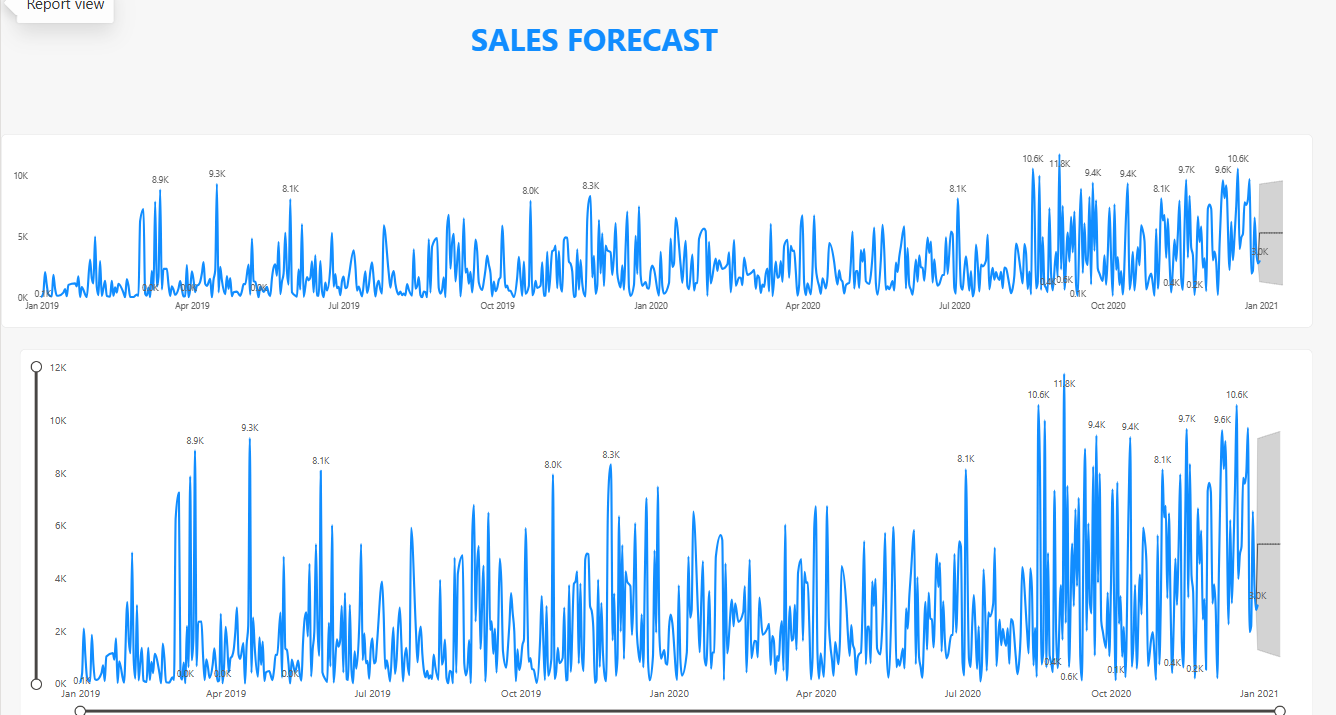

The page's visual inventory and layout, read from the dashboard file:
{"tool":"powerbi","page":{"name":"Page 2","canvas":[1920,1080],"ordinal":1},"visuals":[{"type":"lineChart","fields":{"Category":["fact_sales.Order _Date"],"Y":["Sum(fact_sales.Sales)"]},"box":[0,195.6,1830,270],"z":0},{"type":"lineChart","fields":{"Category":["fact_sales.Order _Date"],"Y":["Sum(fact_sales.Sales)"]},"box":[26,496,1804,528],"z":1000},{"type":"textbox","box":[0,32.5,1667.5,142.5],"z":1001}]}

Visuals, with their boxes on the page's 1920x1080 design canvas (x1, y1, x2, y2). These are canvas units, not pixel positions in the 1336x715 screenshot, which may show the page scaled, cropped or inside an application window:
lineChart - fact_sales.Order _Date x Sum(fact_sales.Sales): <region>0, 196, 1830, 466</region>
lineChart - fact_sales.Order _Date x Sum(fact_sales.Sales): <region>26, 496, 1830, 1024</region>
textbox: <region>0, 32, 1668, 175</region>
